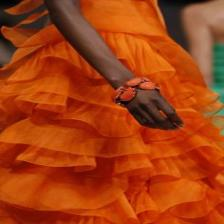orange: (1, 0, 224, 224)
